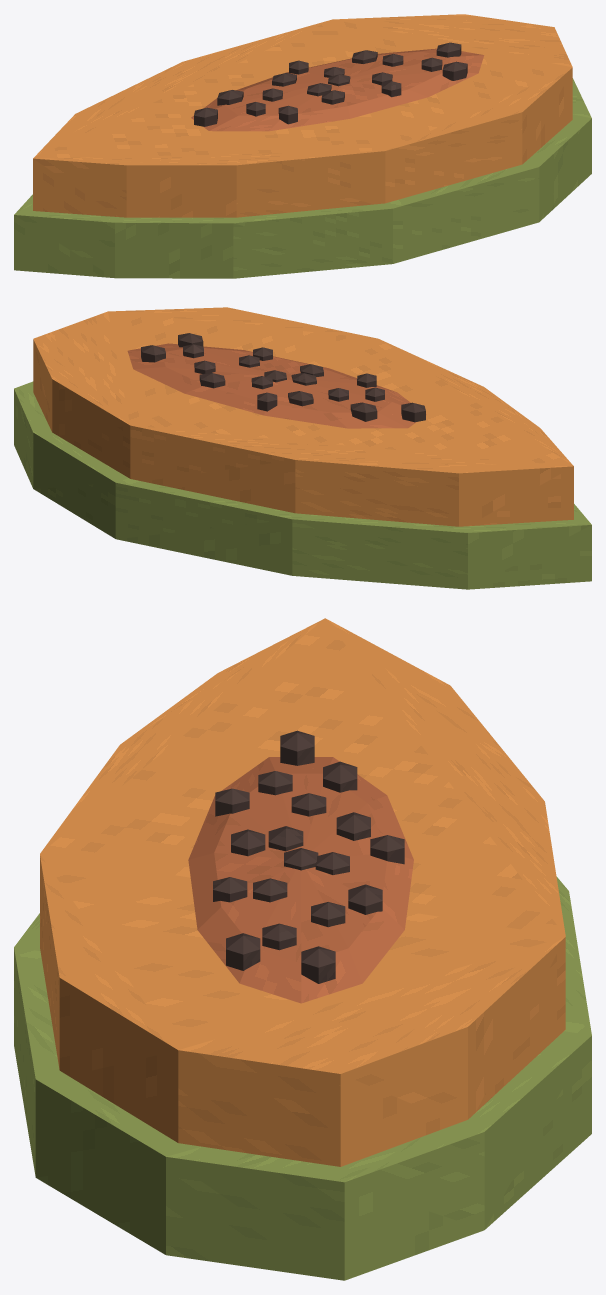
Rendered from papaya.glb.
3 renders of one model, top to bottom at view 1: azimuth 30°, elevation 25°; view 2: azimuth 150°, elevation 25°; view 3: azimuth 270°, elevation 25°, orthographic. The views are drawn at different scales.
Parts seen in each view (by area): view 1: block_warm orange papaya flesh, block_yellow green papaya rind, block_dark central seed cavity, block_black papaya seed (×2); view 2: block_warm orange papaya flesh, block_yellow green papaya rind, block_dark central seed cavity, block_black papaya seed (×3); view 3: block_warm orange papaya flesh, block_yellow green papaya rind, block_dark central seed cavity, block_black papaya seed (×7).
Boxes of the visible parts, x1=… form: block_warm orange papaya flesh: x1=33, y1=14, x2=572, y2=217; block_yellow green papaya rind: x1=14, y1=78, x2=591, y2=278; block_dark central seed cavity: x1=191, y1=48, x2=484, y2=131; block_black papaya seed (×2): x1=194, y1=61, x2=467, y2=126; block_warm orange papaya flesh: x1=33, y1=307, x2=573, y2=526; block_yellow green papaya rind: x1=14, y1=381, x2=591, y2=589; block_dark central seed cavity: x1=127, y1=343, x2=426, y2=428; block_black papaya seed (×3): x1=141, y1=345, x2=425, y2=422; block_warm orange papaya flesh: x1=40, y1=618, x2=565, y2=1166; block_yellow green papaya rind: x1=14, y1=876, x2=591, y2=1280; block_dark central seed cavity: x1=188, y1=757, x2=413, y2=1003; block_black papaya seed (×7): x1=226, y1=730, x2=404, y2=983.
Bounding box in the file's own units: 0.19 × 0.04 × 0.0953.
Materials: 1 (1 with a texture image).
